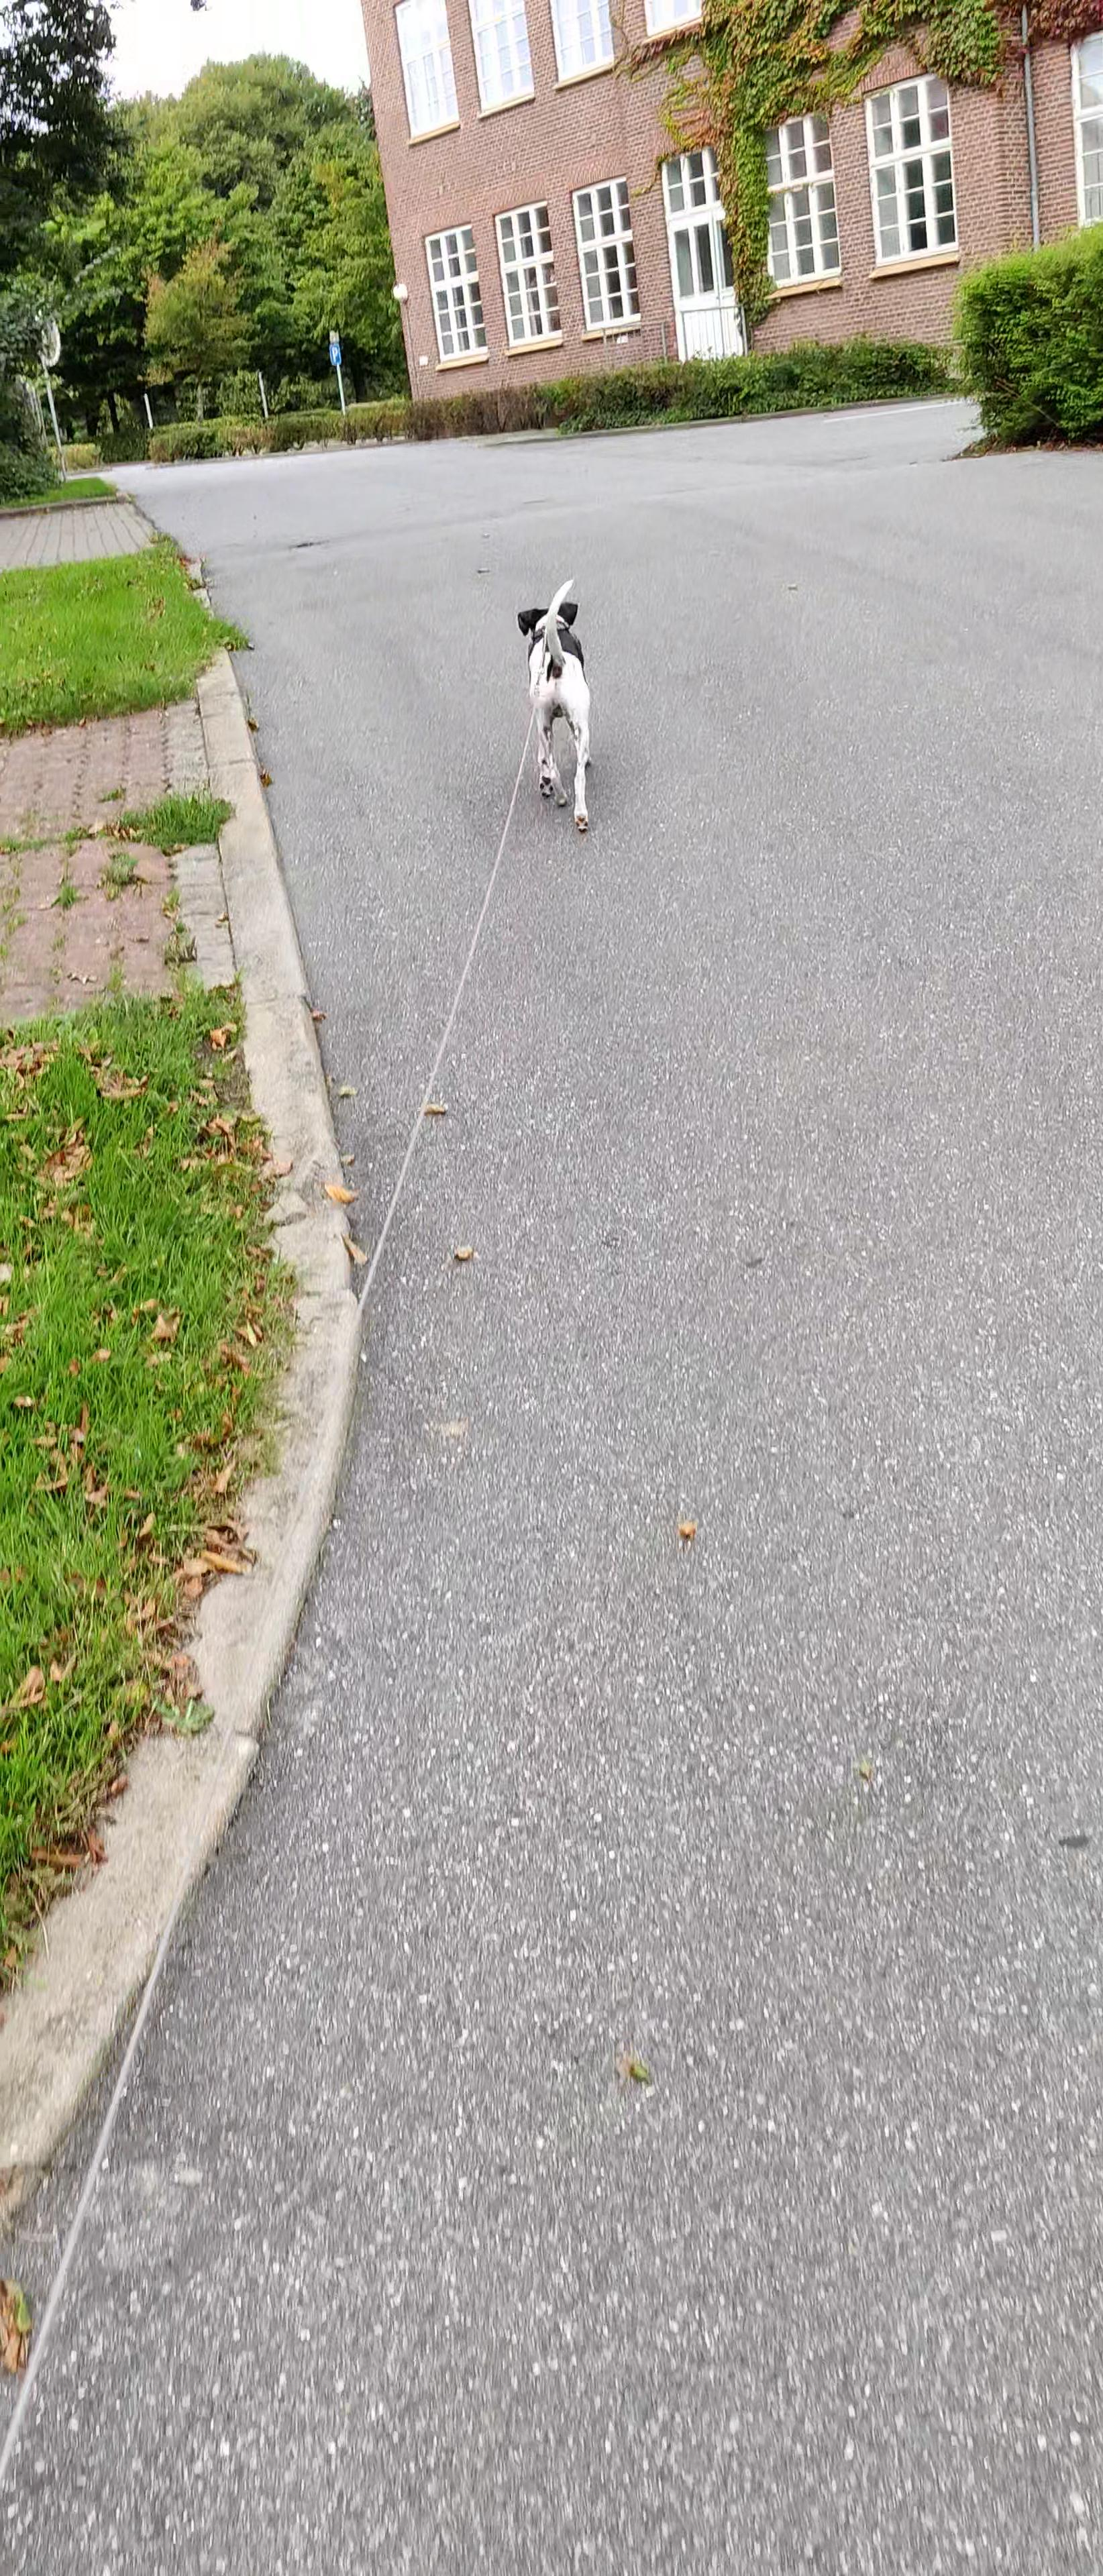Dog: (498, 570, 608, 839)
